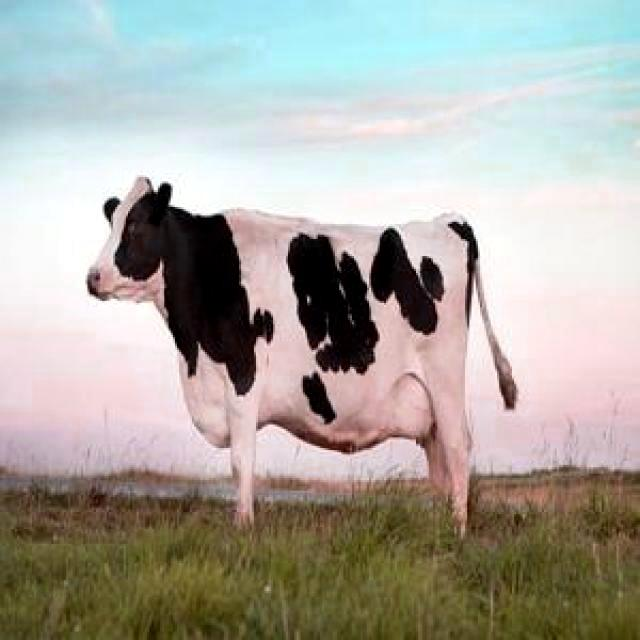COW: (88, 178, 516, 531)
